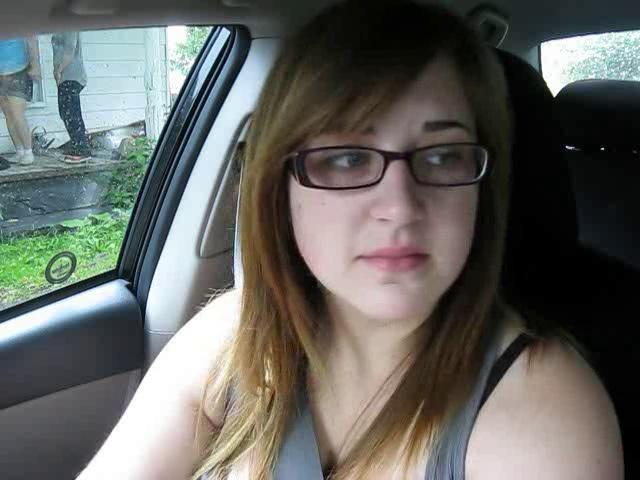no_yawn: (338, 234, 440, 284)
open_eyeL: (295, 137, 387, 192)
open_eyeR: (407, 134, 483, 187)
